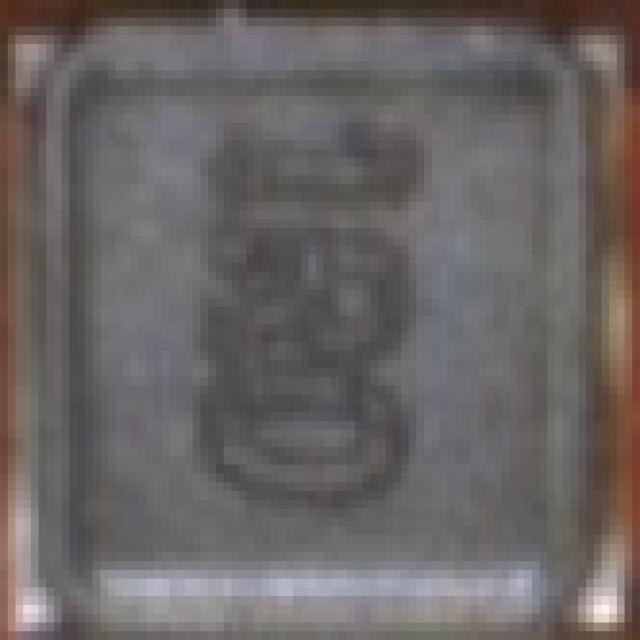inductor F1: (30, 18, 614, 638)
